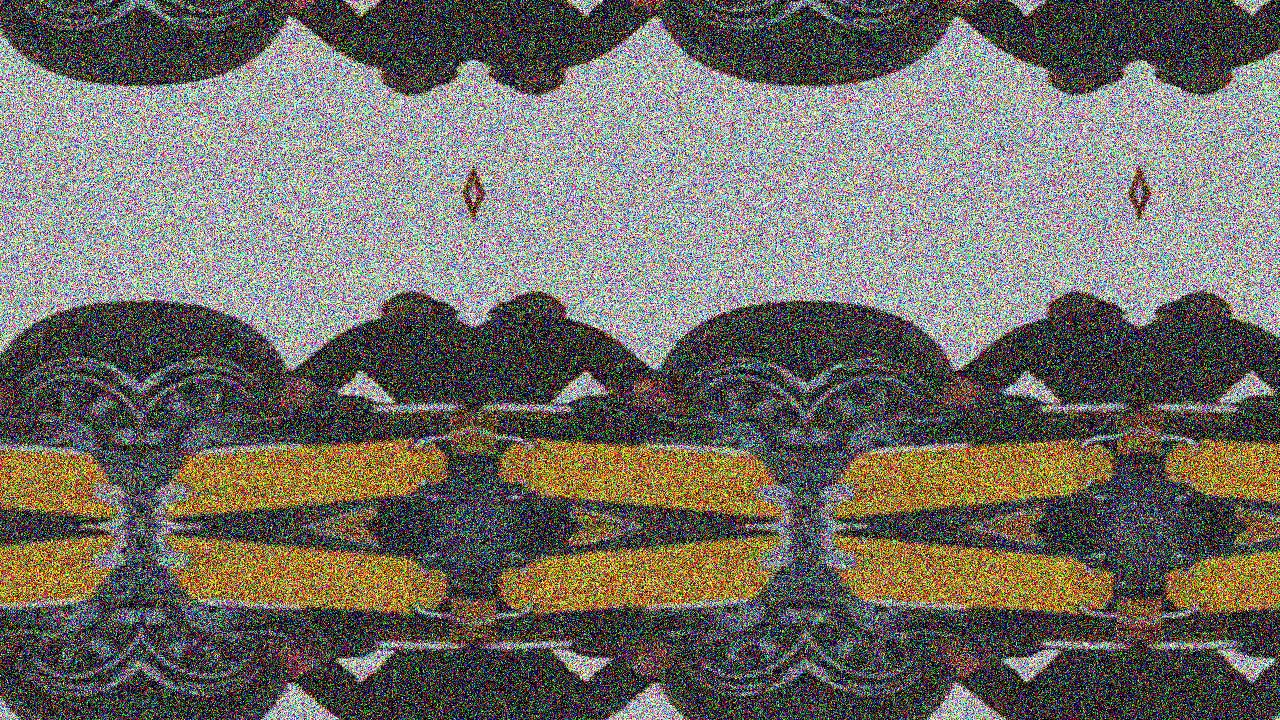chock: (140, 414, 455, 527), (492, 414, 807, 527), (807, 414, 1122, 527), (140, 527, 455, 639), (492, 527, 807, 639), (807, 527, 1122, 639), (473, 391, 747, 513), (473, 541, 747, 663), (200, 391, 473, 513), (867, 391, 1140, 513), (200, 541, 473, 663), (867, 541, 1140, 663), (1140, 391, 1280, 513), (1140, 541, 1280, 663), (0, 414, 140, 527), (0, 527, 140, 639), (1158, 414, 1280, 527), (1158, 527, 1280, 639), (556, 476, 807, 527), (140, 476, 390, 527), (807, 476, 1057, 527), (556, 527, 807, 577), (140, 527, 390, 577), (807, 527, 1057, 577), (0, 391, 80, 513), (0, 541, 80, 663), (0, 476, 140, 527), (0, 527, 140, 577), (1223, 476, 1280, 527), (1223, 527, 1280, 577)
